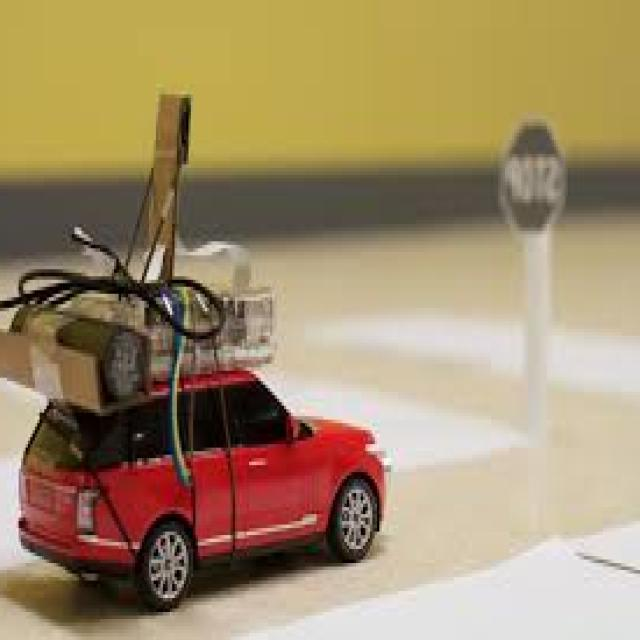Car: (19, 364, 393, 612)
